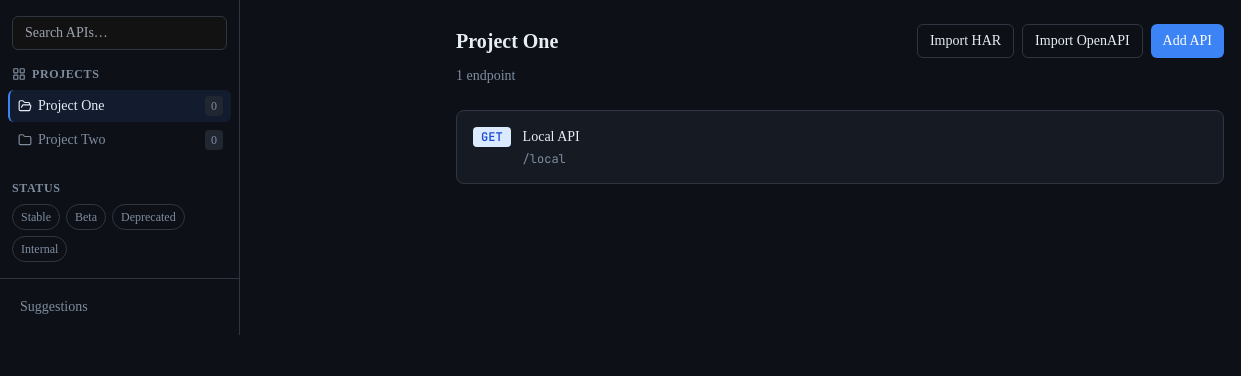
Test case: ProjectPage — cross-project search › shows result from another project when search returns its ID
This screenshot has width=1241, height=376.
Check: the text "Local API" is shown, box [523,127,580,147]
In the field with placeholder "Search APIs…": (120, 33) [12,16,227,50], type "remote endpoints"
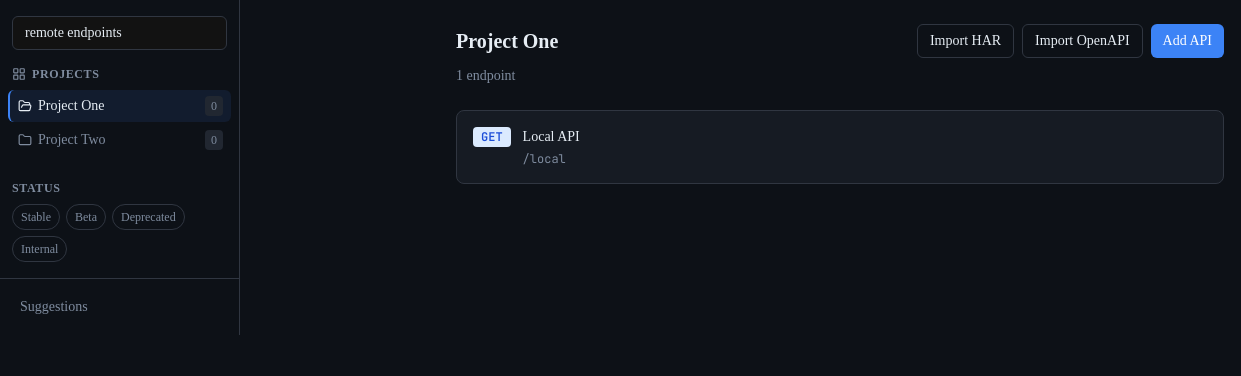
Press Enter in the field with placeholder "Search APIs…", box [12,16,227,50]
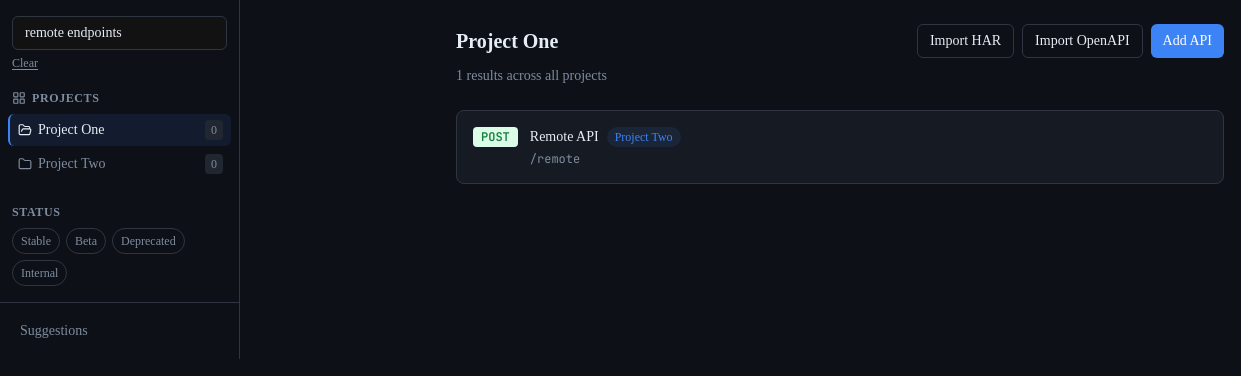
Check: the text "Remote API" is shown, box [530,127,599,147]
